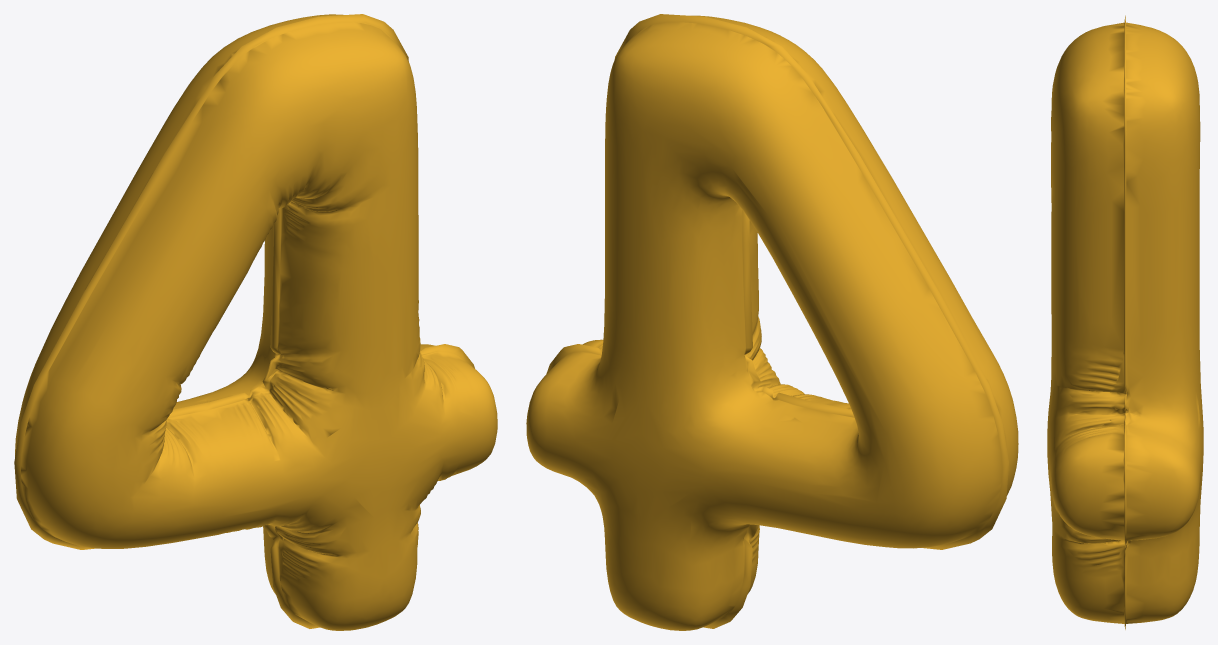
File: zahlen-gold-nr4-gruppe.glb
3 renders of one model, left to right at view 1: azimuth 30°, elevation 25°; view 2: azimuth 150°, elevation 25°; view 3: azimuth 270°, elevation 25°, orthographic. The views are drawn at different scales.
Parts seen in each view (by area): view 1: nr4; view 2: nr4; view 3: nr4.
Part boxes in pixels (x1,y1,x2,y2): nr4: (14, 14, 497, 630); nr4: (526, 14, 1018, 630); nr4: (1047, 15, 1203, 629).
Bounding box in the file's own units: 0.4786 × 0.6016 × 0.1487.
